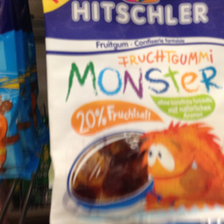candy: (42, 1, 223, 224)
